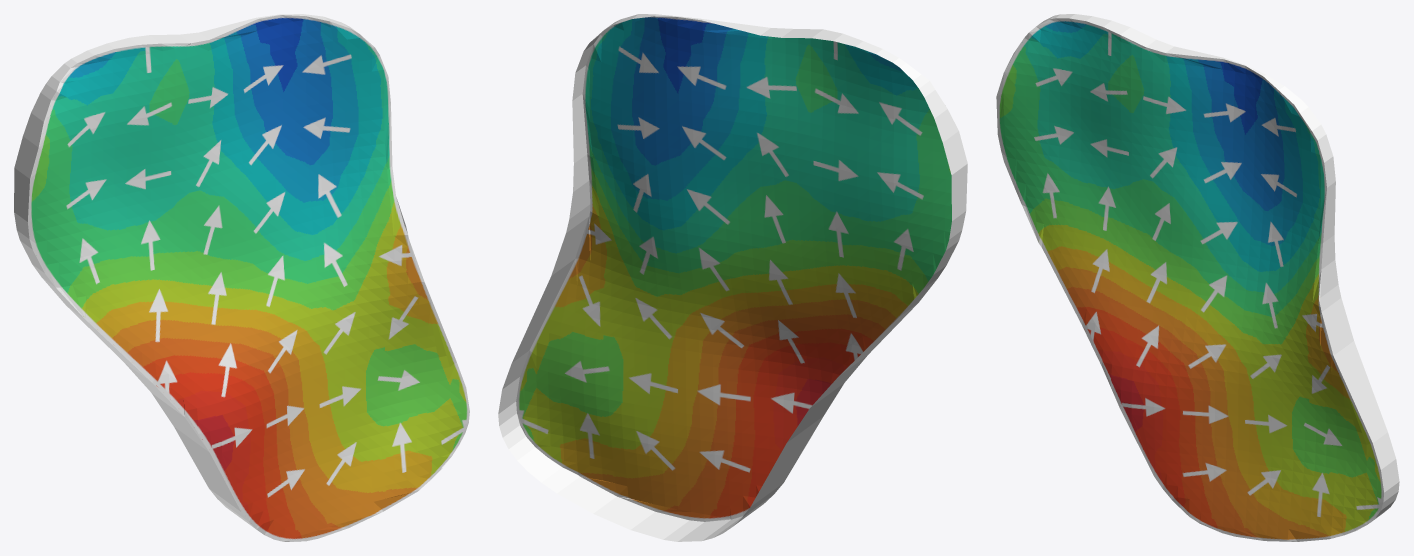
3 views of the same model, side by side, from view 1: azimuth 30°, elevation 25°; view 2: azimuth 150°, elevation 25°; view 3: azimuth 330°, elevation 25° (orthographic). The views are drawn at different scales.
Bounding box in the file's own units: 3.55 × 4.04 × 0.5037.
Materials: 2 (1 with a texture image).
